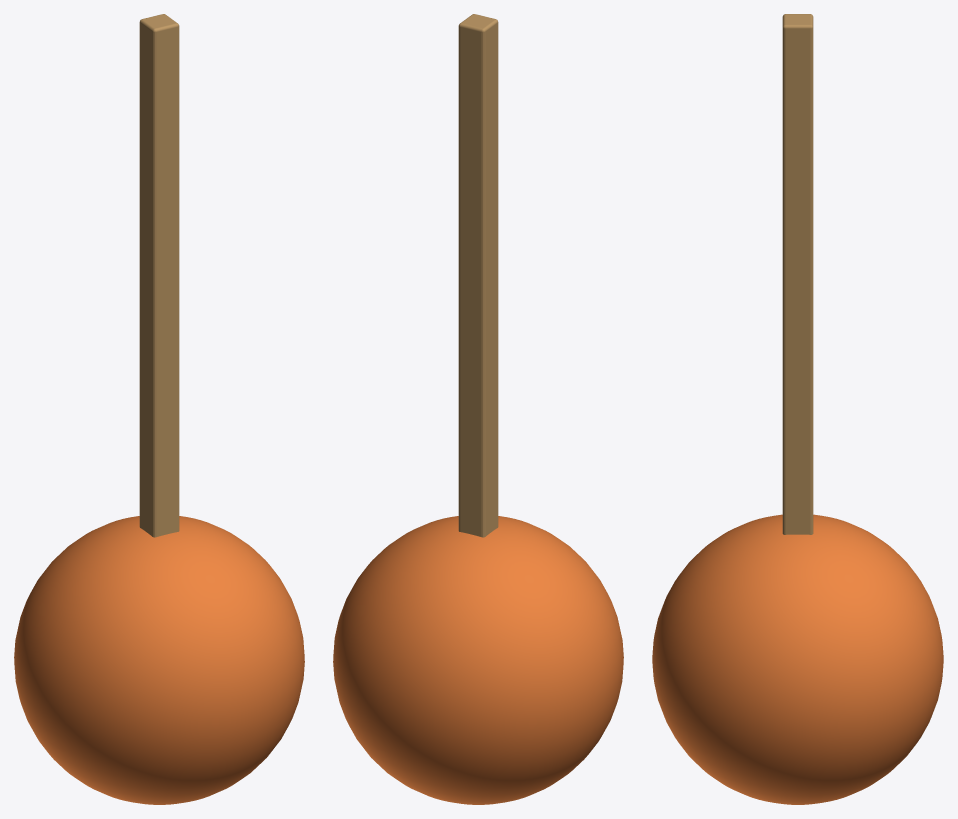
Rendered from bob.glb.
The picture shows the model from 3 angles, left to right: view 1: azimuth 30°, elevation 25°; view 2: azimuth 150°, elevation 25°; view 3: azimuth 270°, elevation 25°; orthographic projection.
Parts seen in each view (by area): view 1: bob; view 2: bob; view 3: bob.
Boxes of the visible parts, box(x1,y1,x2,y2) form: bob: box(14, 14, 304, 804); bob: box(333, 14, 623, 804); bob: box(652, 14, 943, 804).
Bounding box in the file's own units: 0.019 × 0.0555 × 0.019.
